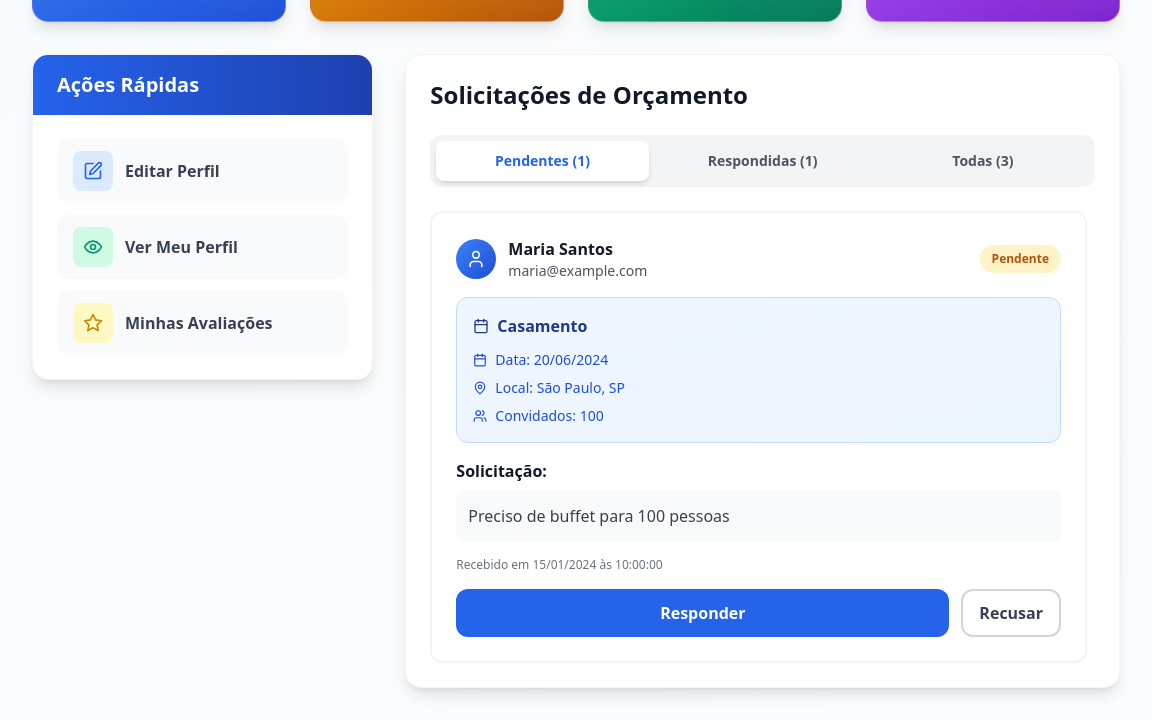
SupplierDashboard › Response Modal › should close modal when X button is clicked
The image size is (1152, 720).
(page scrolled)
Click the button "Responder" at (703, 613), box [456,589,949,637]
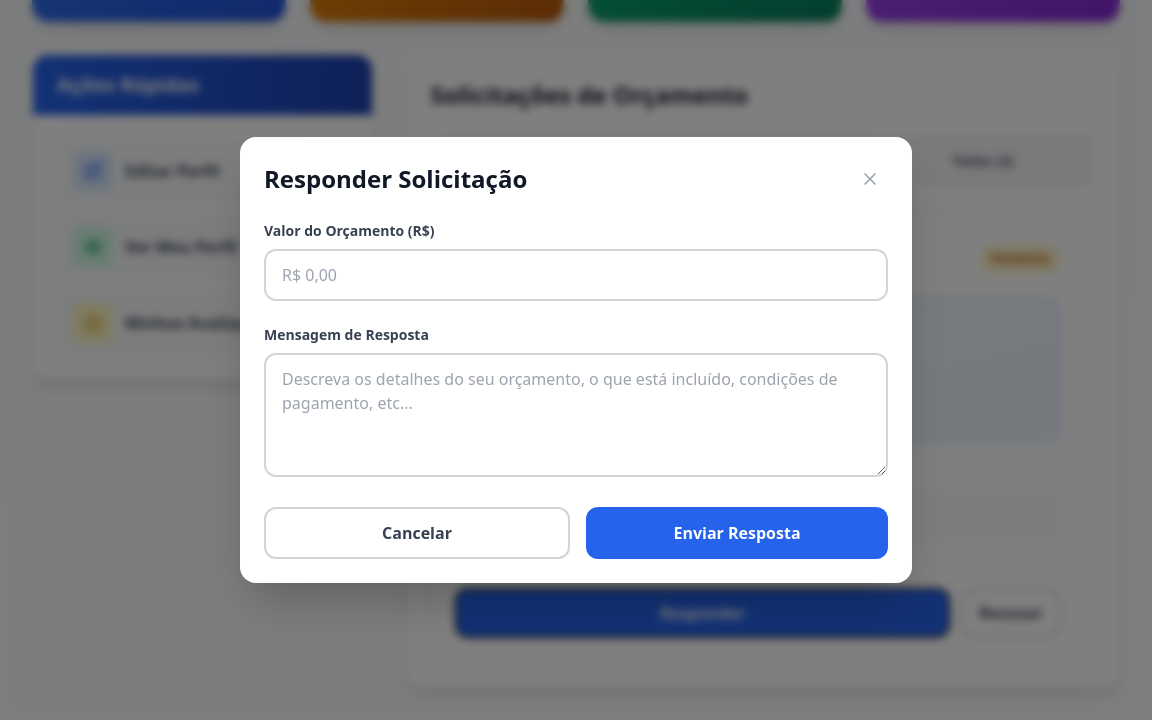
Now the heading "Responder Solicitação" is shown, box [264,163,527,195]
Click the 1st button at (870, 179), box [852,161,888,197]
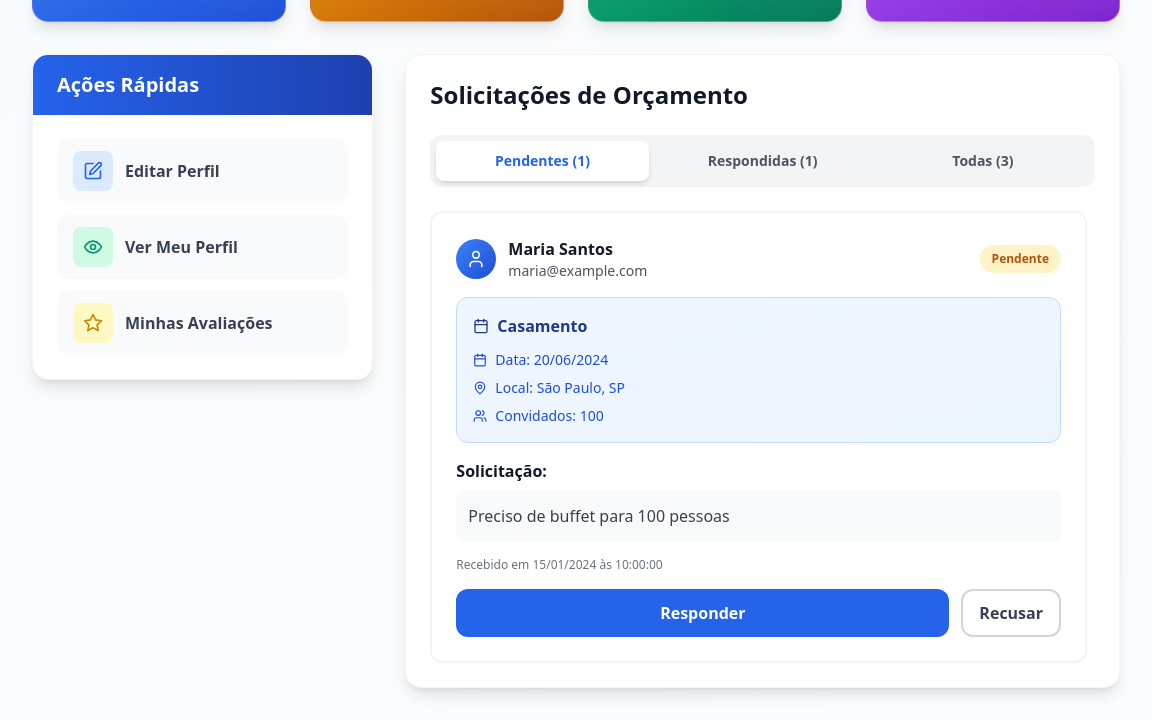
Now the heading "Responder Solicitação" is gone
